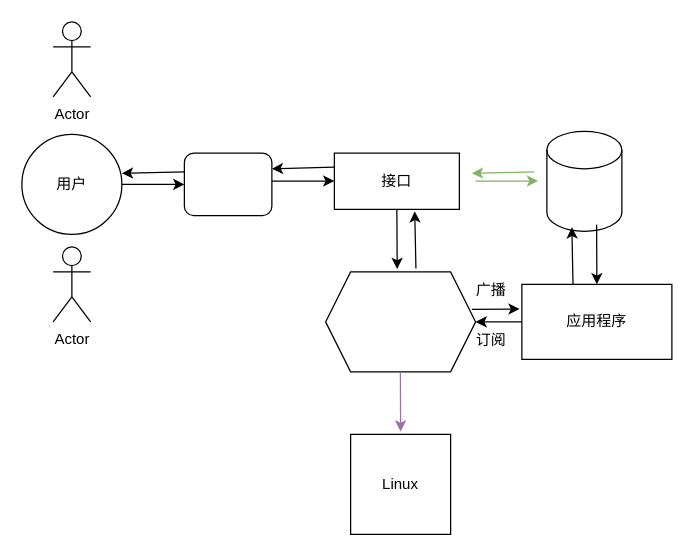
This 694x556 diagram has some shape labels left out. Here are the shapes that lost their labels. From the top down, the box of each, then its label:
(183, 152, 272, 216): web页面
(546, 130, 622, 231): MySQL
(324, 271, 476, 372): Redis、内存数据库
